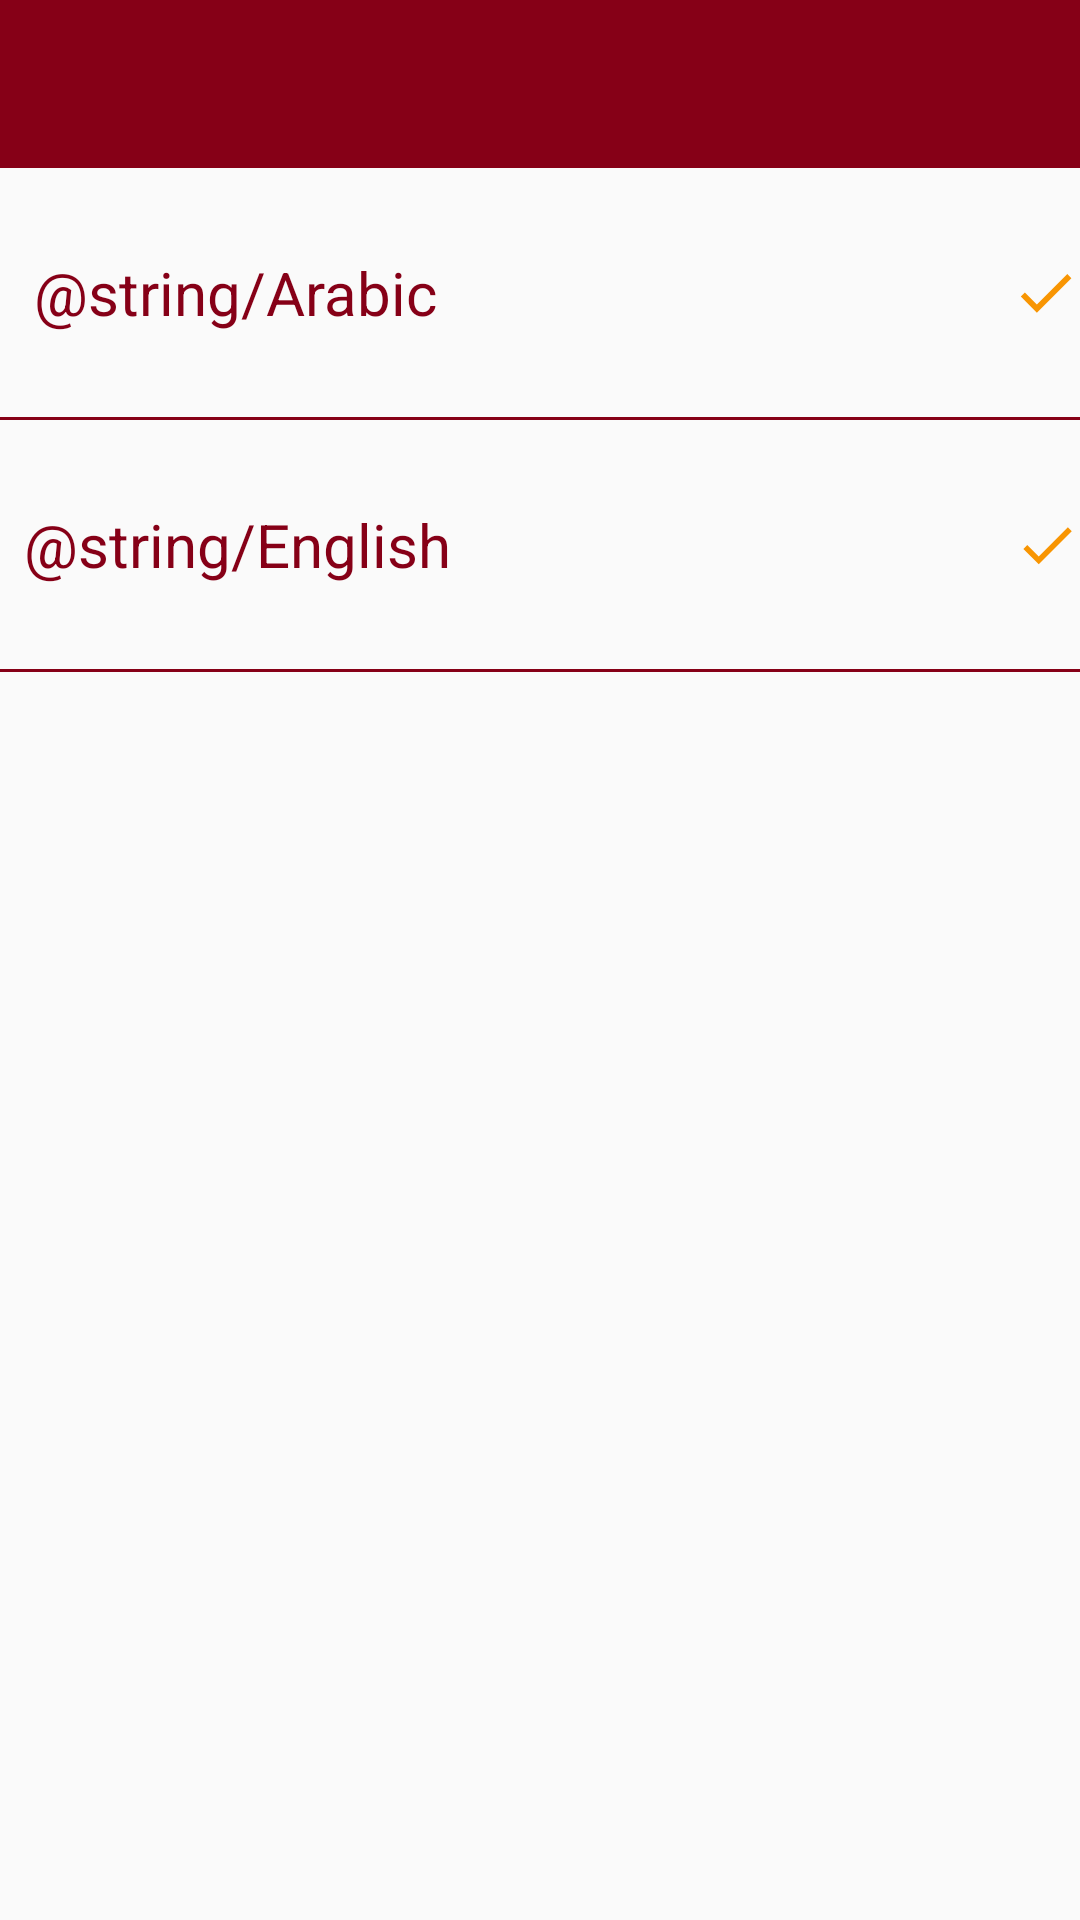

Icons on this 1080*1920 Android screen, each with the point to tap as (x=x, y=y):
check: (x=1046, y=293), (x=1047, y=545)
